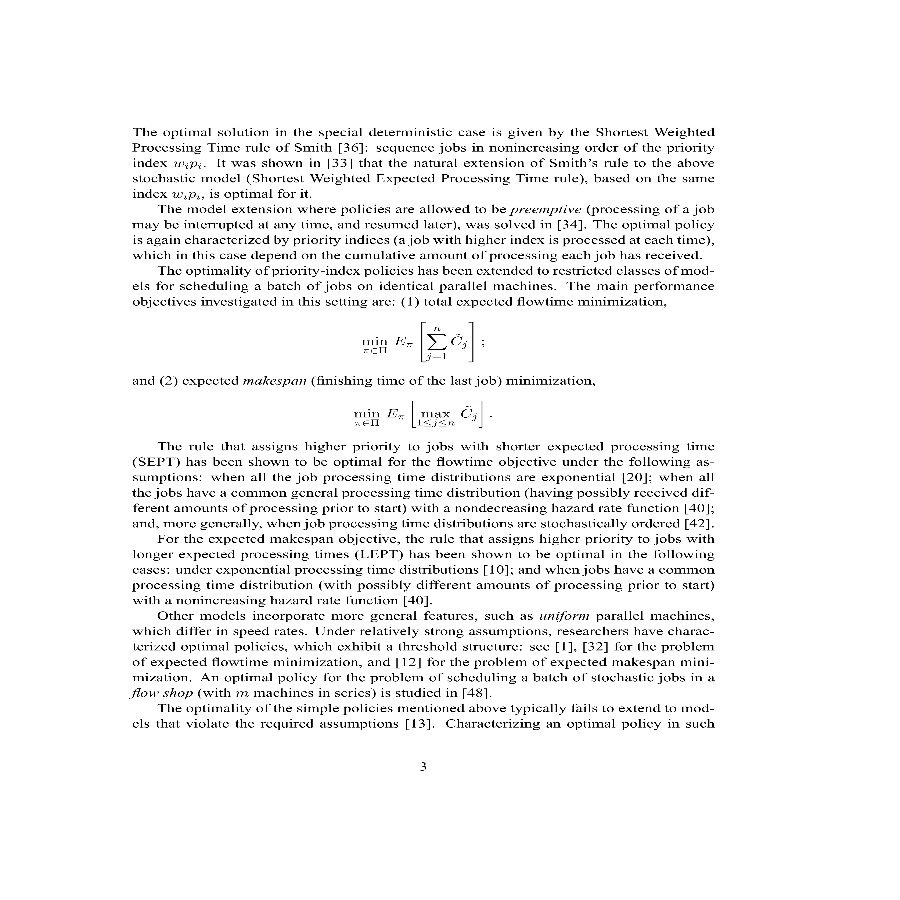eq: (350, 395, 487, 436), (356, 319, 476, 364)
